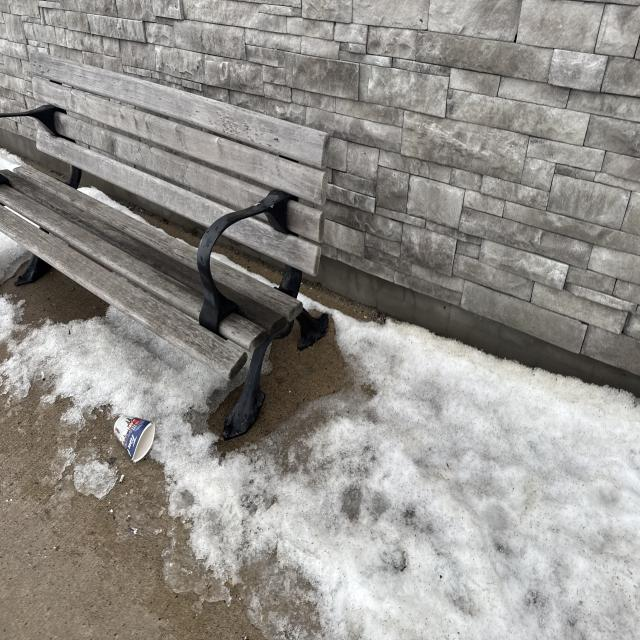Bench: (5, 73, 326, 435)
